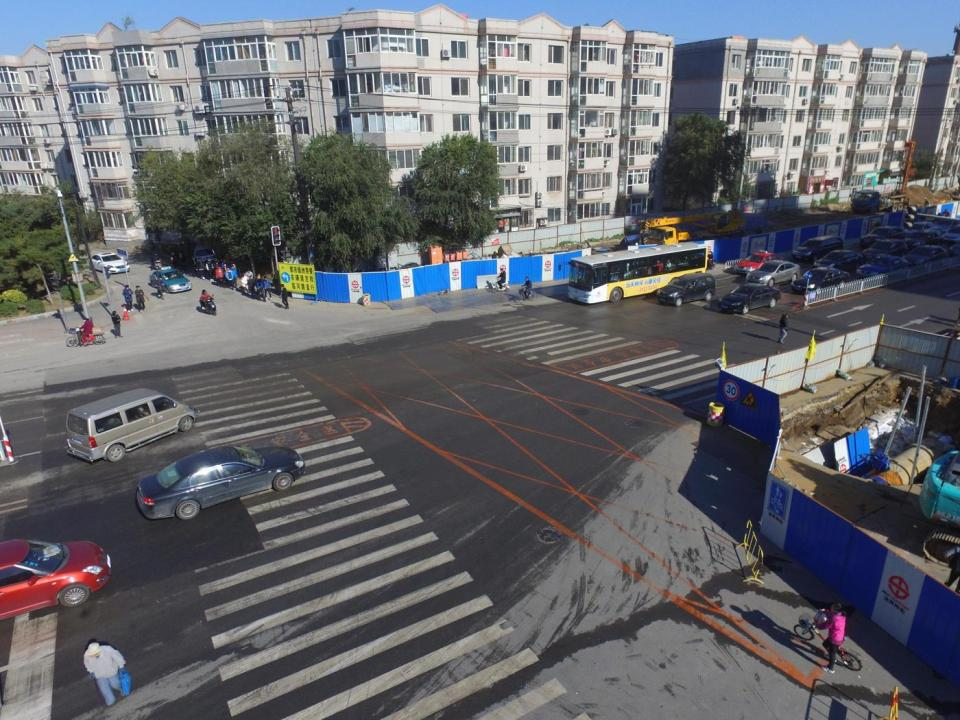bus: (557, 241, 707, 304)
car: (137, 441, 308, 520), (0, 537, 115, 618), (717, 283, 783, 314), (657, 273, 717, 307), (790, 266, 851, 294), (733, 250, 787, 278), (855, 255, 911, 282), (748, 260, 803, 286), (149, 266, 194, 294), (815, 250, 865, 274), (861, 226, 907, 250), (862, 240, 910, 263), (903, 244, 949, 268), (87, 252, 132, 273), (903, 230, 946, 250), (926, 224, 951, 244), (910, 221, 937, 238), (527, 248, 537, 271), (491, 250, 499, 272)
truck: (849, 188, 909, 219)
van: (66, 385, 199, 466), (791, 234, 846, 262), (192, 237, 221, 273)
